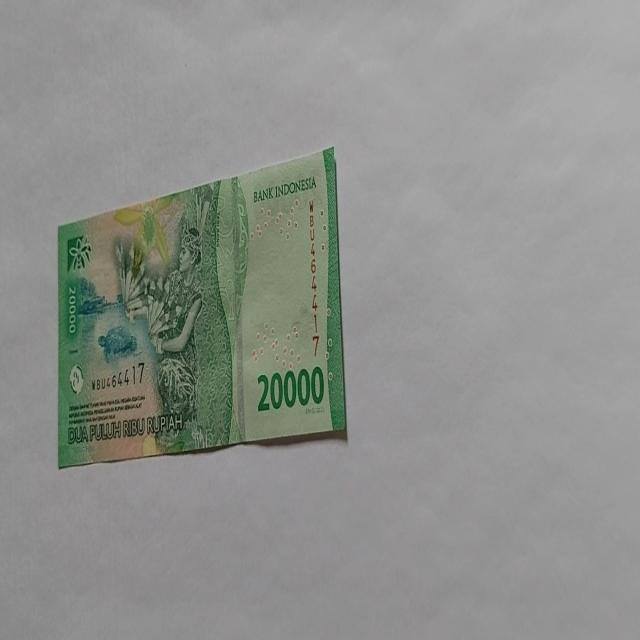dua puluh ribu rupiah: (56, 144, 348, 468)
